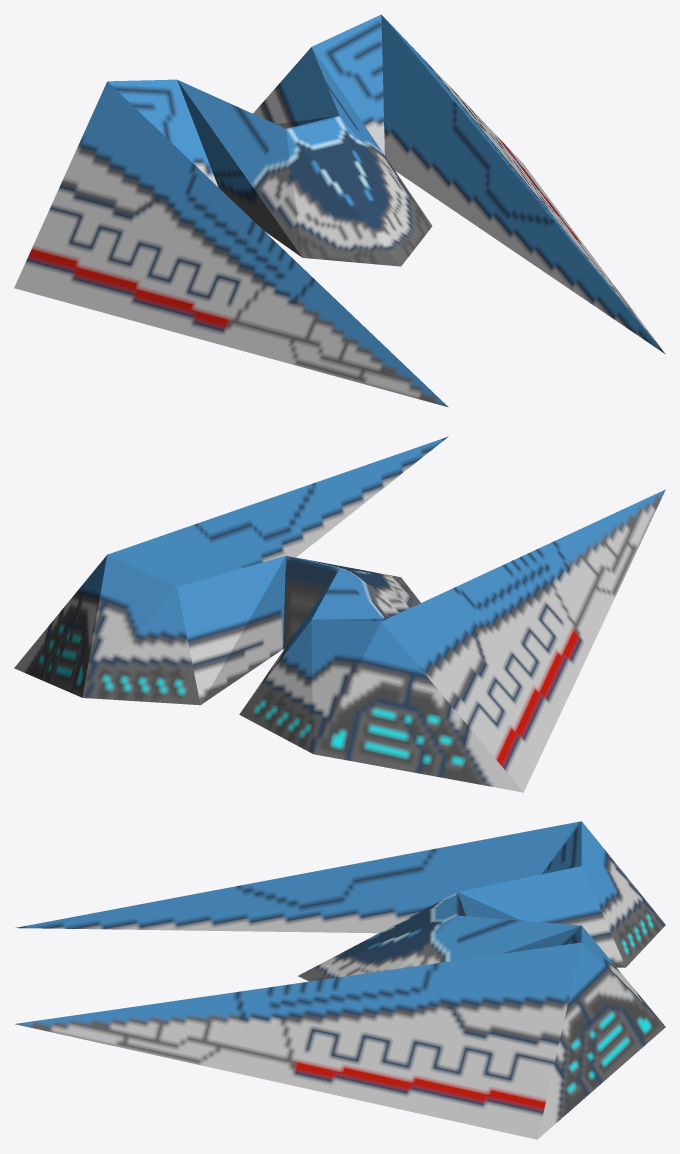
The model's file is SwadgeWing.fbx.
The picture shows the model from 3 angles, top to bottom: view 1: azimuth 30°, elevation 25°; view 2: azimuth 150°, elevation 25°; view 3: azimuth 270°, elevation 25°; orthographic projection. The views are drawn at different scales.
Visible parts, largest first — view 1: SwadgeWing; view 2: SwadgeWing; view 3: SwadgeWing.
Boxes of the visible parts, x1,y1,x2,y2 form: SwadgeWing: (14,14,665,407); SwadgeWing: (14,436,665,792); SwadgeWing: (15,821,665,1139).
Size of the model in its own units: 2.38 by 0.7159 by 2.91.
